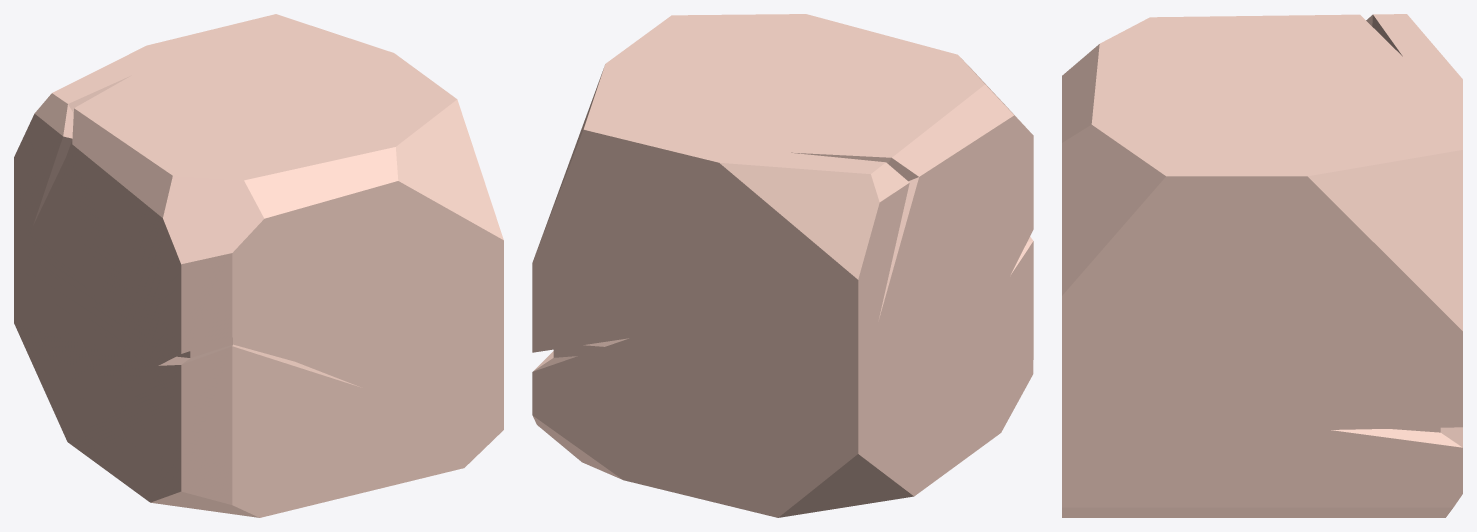
File: Stone 11.fbx
3 views of the same model, side by side, from view 1: azimuth 30°, elevation 25°; view 2: azimuth 150°, elevation 25°; view 3: azimuth 270°, elevation 25° (orthographic). The views are drawn at different scales.
Visible parts, largest first — view 1: Stone 11; view 2: Stone 11; view 3: Stone 11.
Part boxes in pixels (bbox=[...]): Stone 11: bbox=[14, 14, 503, 517]; Stone 11: bbox=[532, 14, 1033, 517]; Stone 11: bbox=[1062, 14, 1462, 517].
Size of the model in its own units: 200 by 200 by 200.
